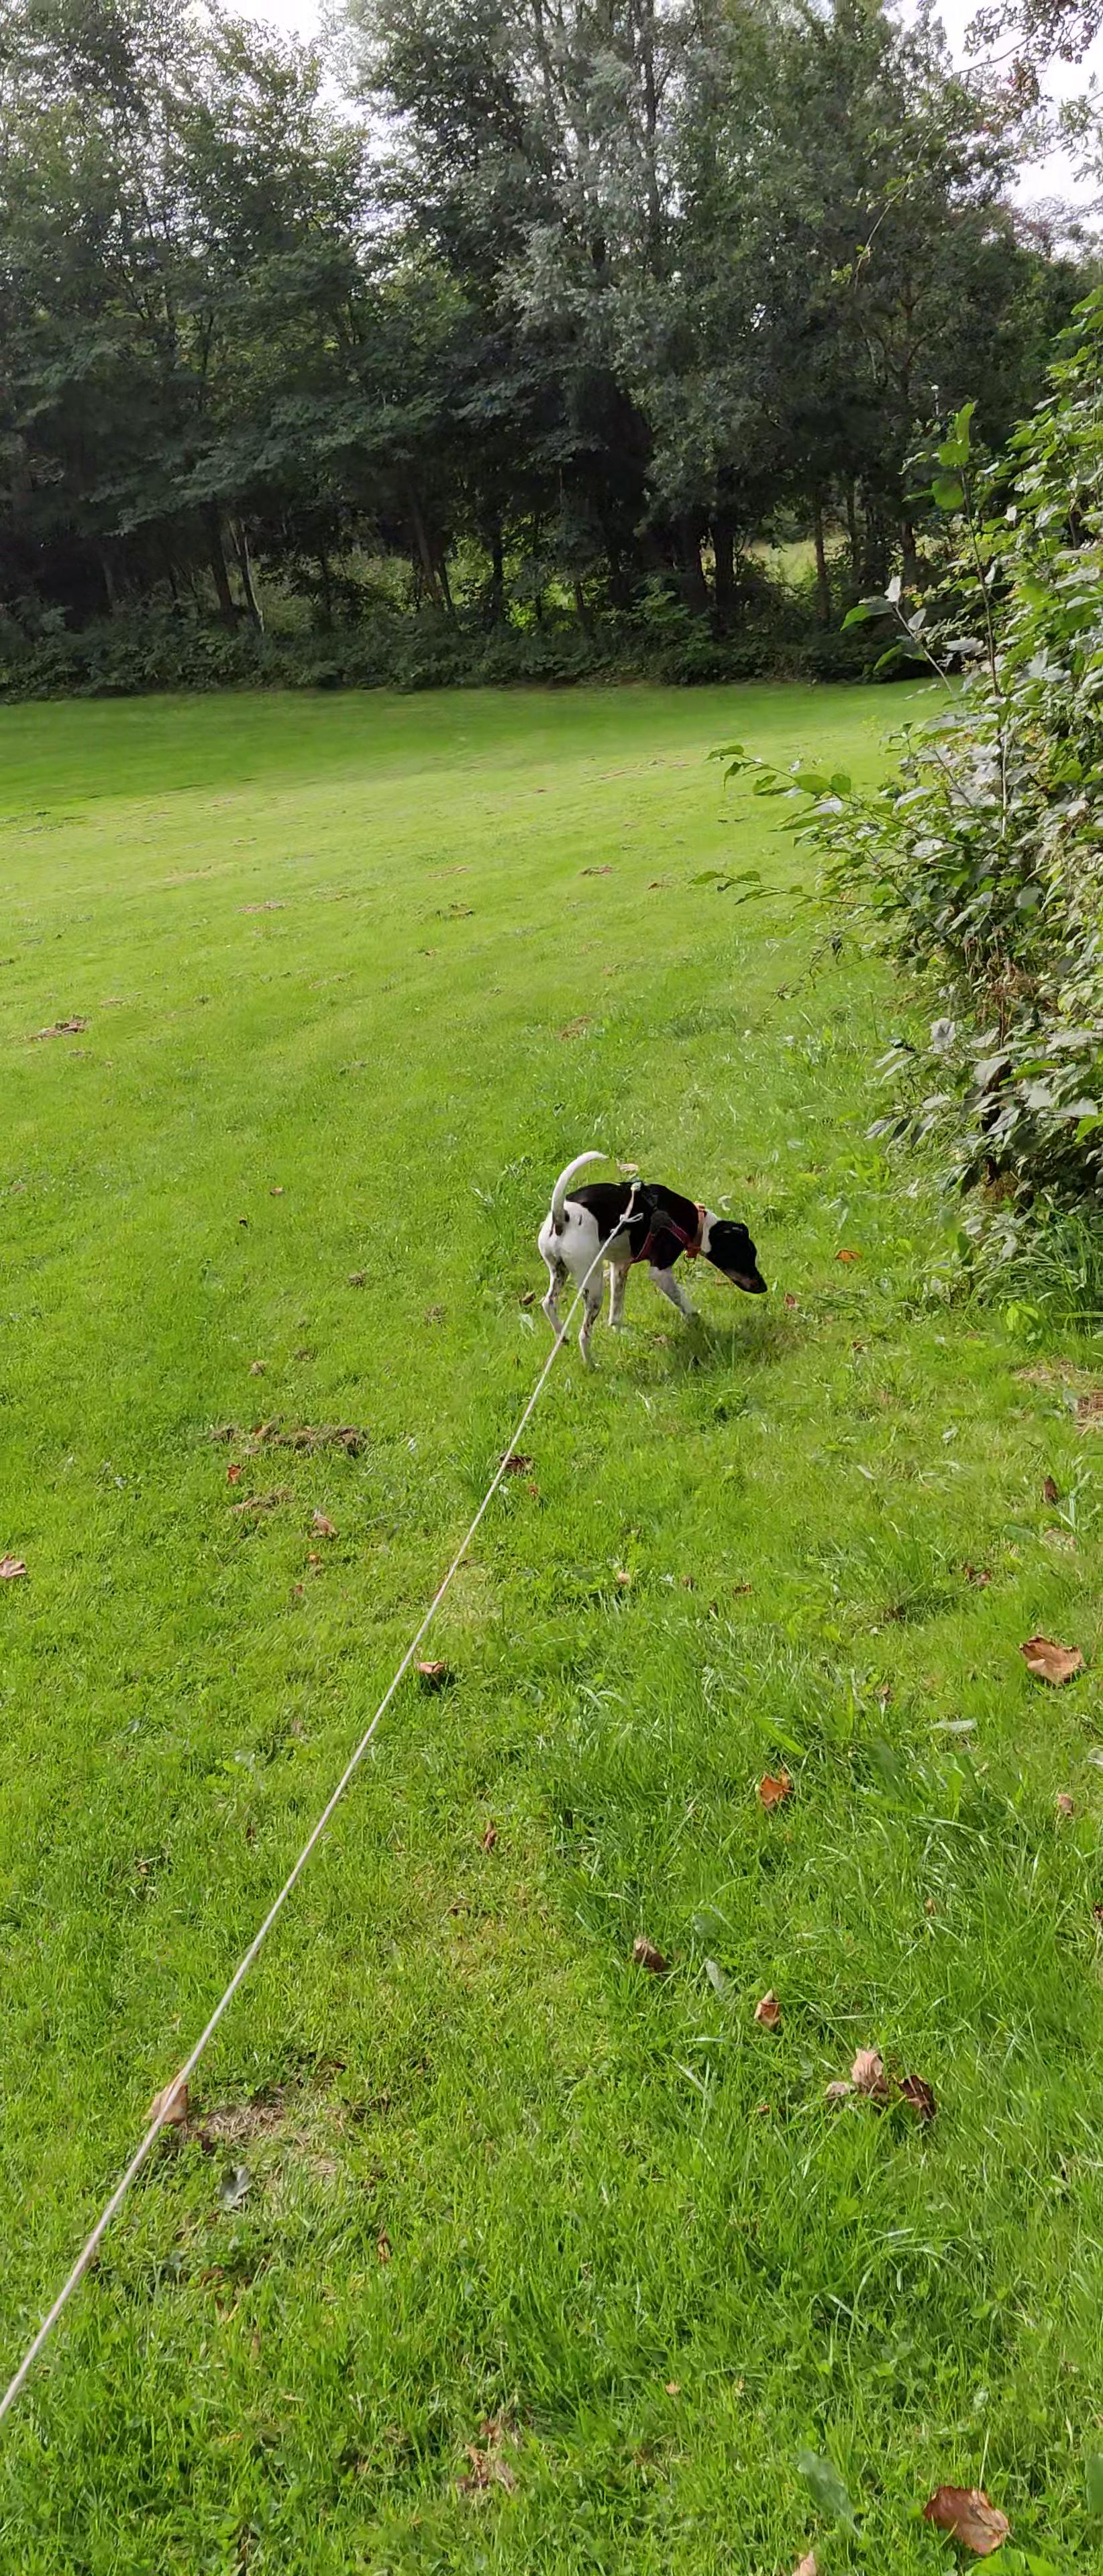Dog: (531, 1147, 771, 1370)
